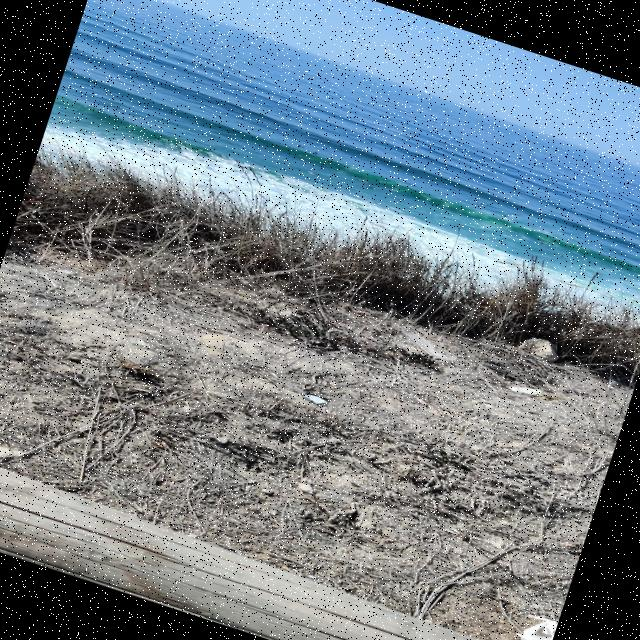Plastic film: (401, 332, 458, 363)
Unlabeled litter: (523, 621, 556, 640), (509, 386, 544, 396), (304, 393, 329, 405), (516, 633, 535, 640)
